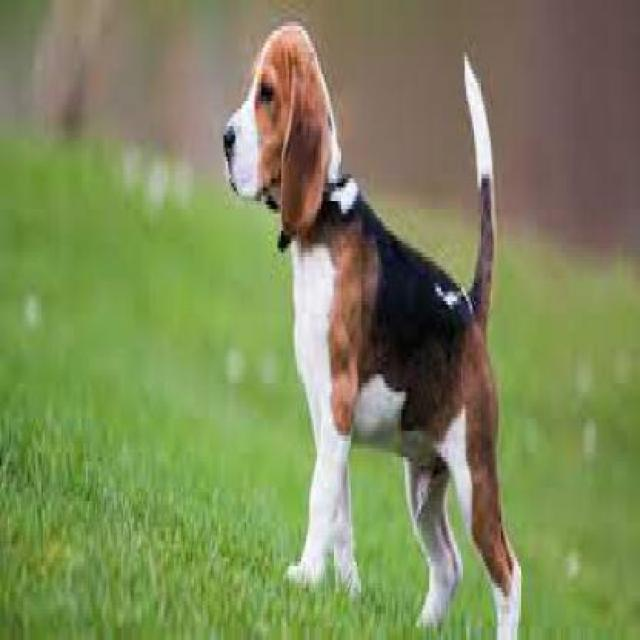Dog: (222, 9, 524, 636)
